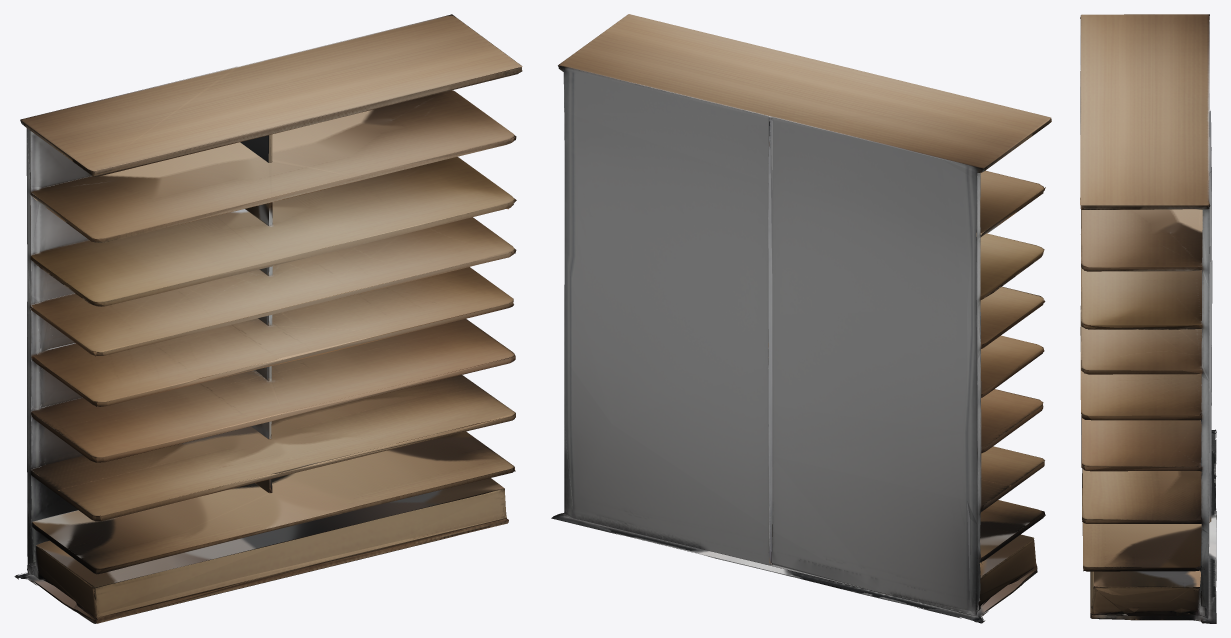
The model's file is shelf-trellis.glb.
3 renders of one model, left to right at view 1: azimuth 30°, elevation 25°; view 2: azimuth 150°, elevation 25°; view 3: azimuth 270°, elevation 25°, orthographic. The views are drawn at different scales.
Visible parts, largest first — view 1: cabinet6-trellis-1K; view 2: cabinet6-trellis-1K; view 3: cabinet6-trellis-1K.
Boxes of the visible parts, x1,y1,x2,y2 form: cabinet6-trellis-1K: (14,14,522,623); cabinet6-trellis-1K: (551,14,1051,623); cabinet6-trellis-1K: (1080,14,1216,623).
Size of the model in its own units: 0.9994 by 1 by 0.2972.
Materials: 1 (1 with a texture image).
